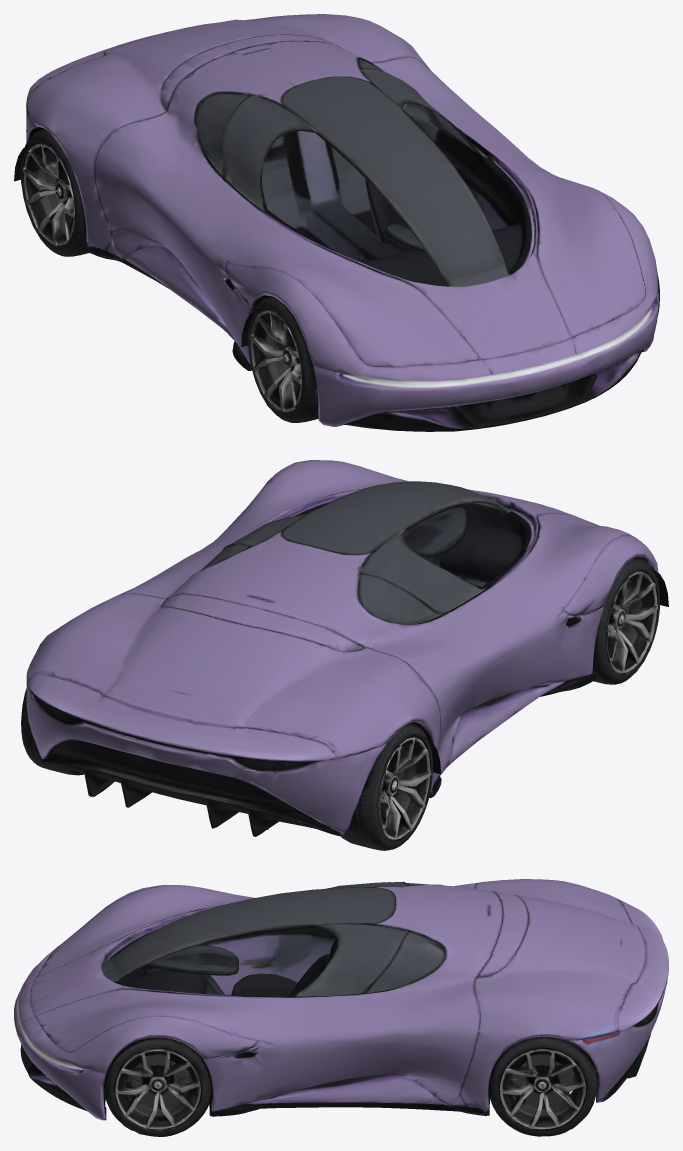
The model's file is car_super.glb.
3 views of the same model, one above another, from view 1: azimuth 30°, elevation 25°; view 2: azimuth 150°, elevation 25°; view 3: azimuth 270°, elevation 25° (orthographic). The views are drawn at different scales.
Parts seen in each view (by area): view 1: body, wheel_FR, wheel_RR; view 2: body, wheel_FR, wheel_RR; view 3: body, wheel_FL, wheel_RL.
Boxes of the visible parts, x1=… form: body: x1=21, y1=14, x2=659, y2=431; wheel_FR: x1=248, y1=312, x2=318, y2=422; wheel_RR: x1=23, y1=146, x2=81, y2=256; body: x1=21, y1=460, x2=659, y2=850; wheel_FR: x1=603, y1=572, x2=659, y2=684; wheel_RR: x1=377, y1=739, x2=432, y2=849; body: x1=14, y1=879, x2=668, y2=1136; wheel_FL: x1=108, y1=1051, x2=205, y2=1136; wheel_RL: x1=494, y1=1051, x2=590, y2=1136.
Size of the model in its own units: 2.51 by 1.29 by 4.6.
Materials: 2 (1 with a texture image).
